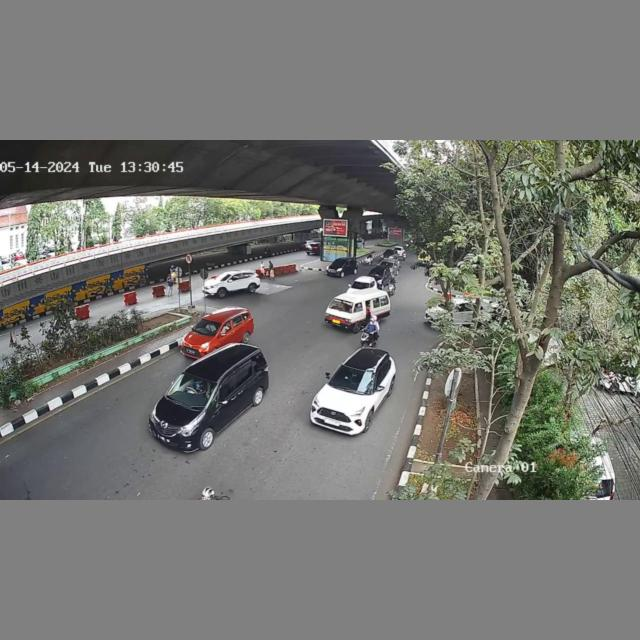windshield: (168, 372, 215, 409), (327, 363, 378, 397), (193, 318, 220, 338), (329, 297, 357, 316)
